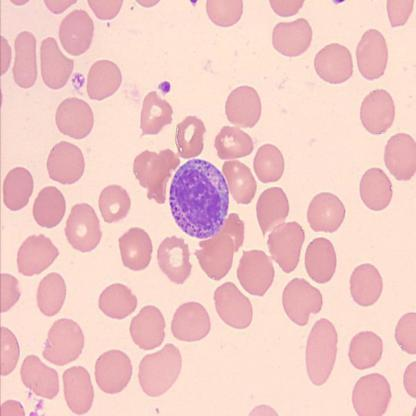Myelocyte: (168, 155, 230, 239)
